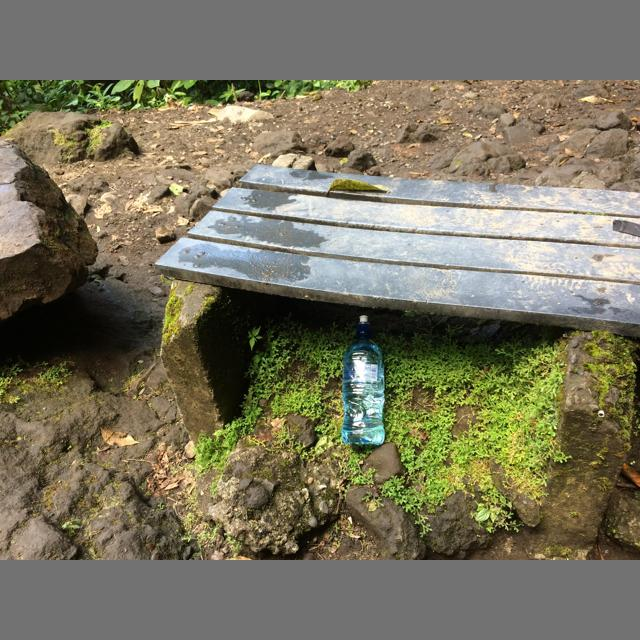litter: (341, 315, 385, 445), (357, 315, 371, 332)
